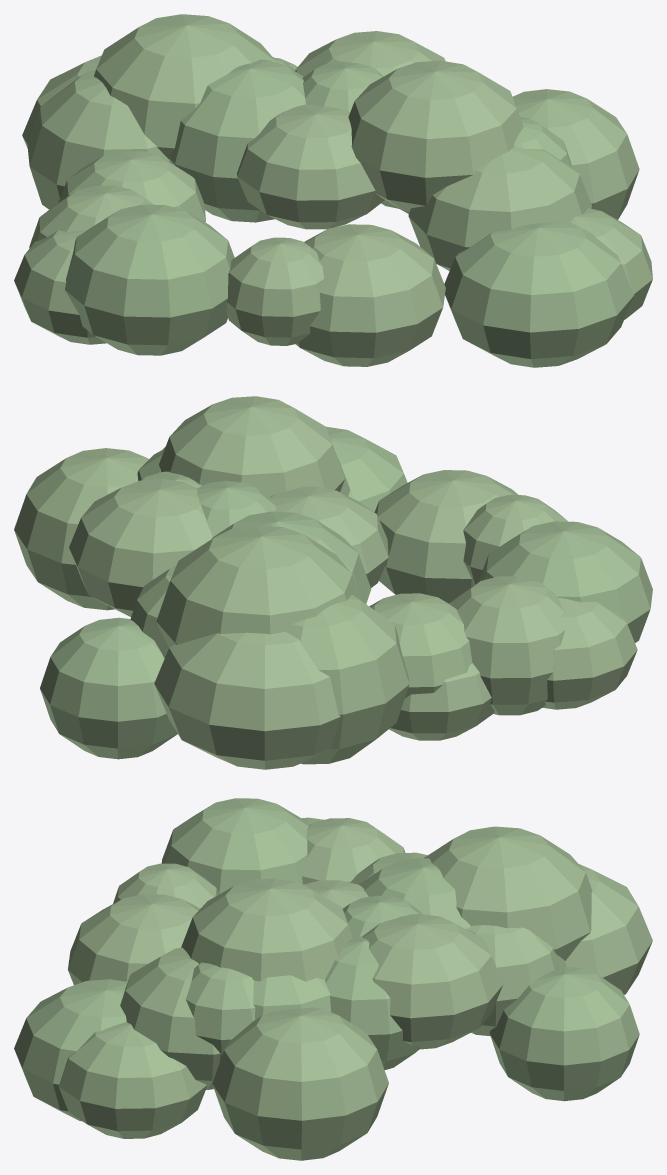
Rendered from tree_birch_canopy.glb.
3 views of the same model, one above another, from view 1: azimuth 30°, elevation 25°; view 2: azimuth 150°, elevation 25°; view 3: azimuth 270°, elevation 25° (orthographic). The views are drawn at different scales.
Visible parts, largest first — view 1: tree; view 2: tree; view 3: tree.
Boxes of the visible parts, box(x1,y1,x2,y2) form: tree: box(14, 14, 652, 367); tree: box(14, 396, 652, 769); tree: box(14, 798, 652, 1160).
Size of the model in its own units: 4.74 by 1.71 by 4.57.
